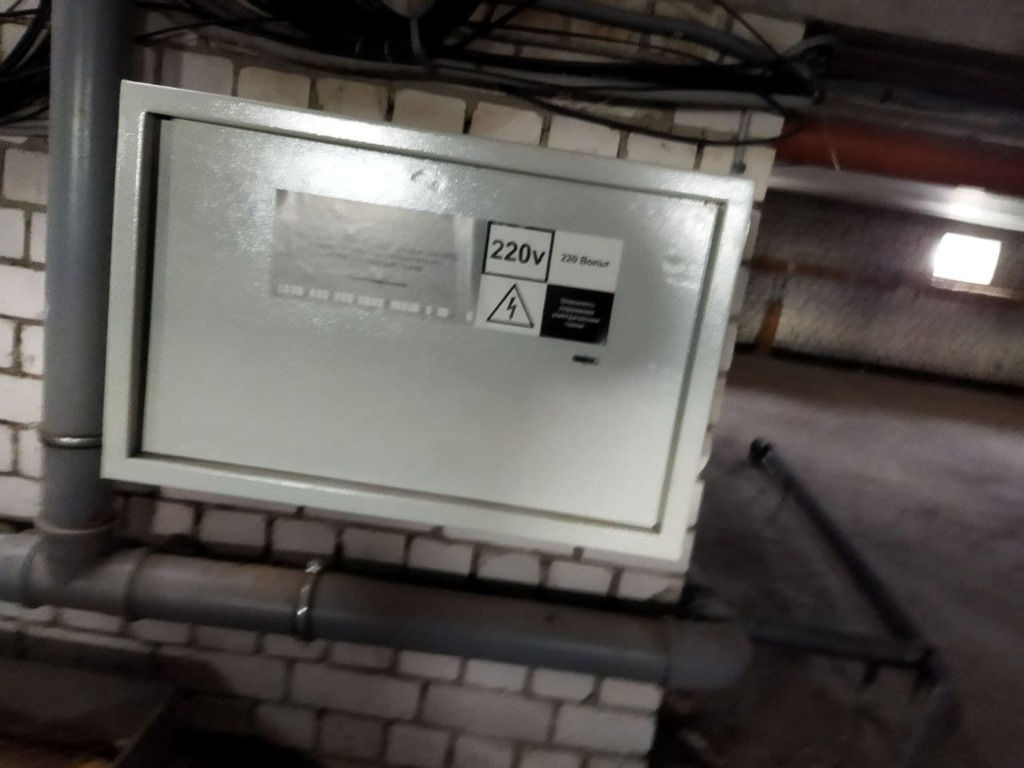shta-7m: (89, 64, 761, 569)
